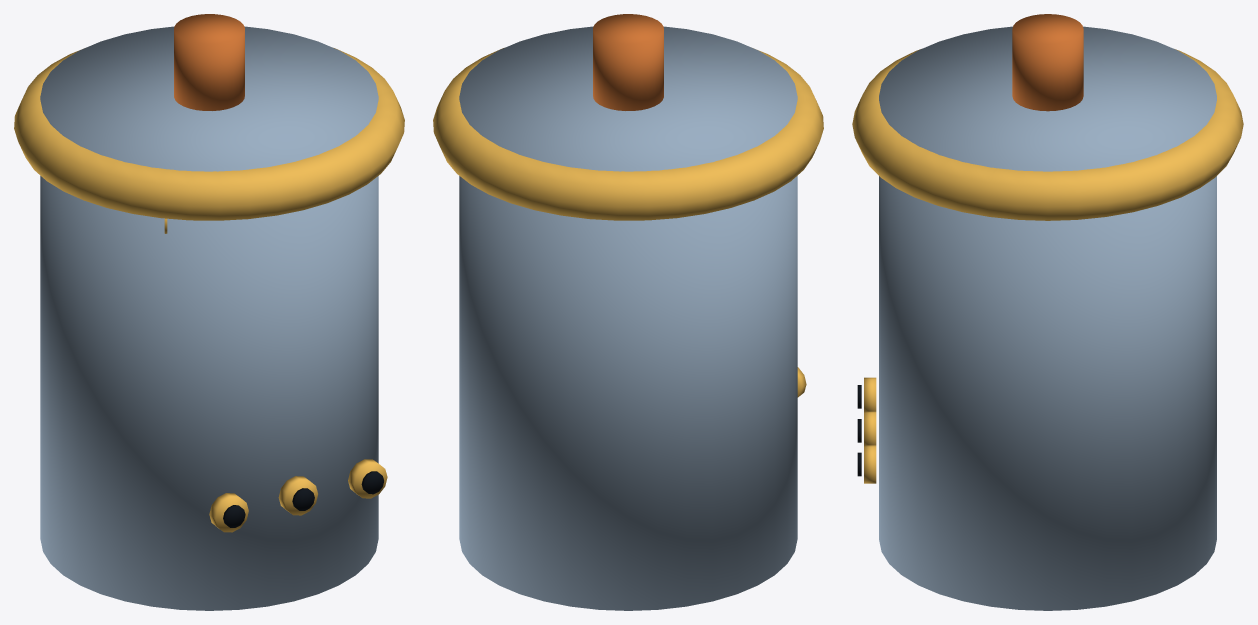
Rendered from 65_L93_SampleGasCaptureTrap.fbx.
3 renders of one model, left to right at view 1: azimuth 30°, elevation 25°; view 2: azimuth 150°, elevation 25°; view 3: azimuth 270°, elevation 25°, orthographic.
Visible parts, largest first — view 1: L92_SampleGasCaptureTrap_Part_0000, L92_SampleGasCaptureTrap_Part_0001, L92_SampleGasCaptureTrap_Part_0002, L92_SampleGasCaptureTrap_Part_0006, L92_SampleGasCaptureTrap_Part_0008, L92_SampleGasCaptureTrap_Part_0004; view 2: L92_SampleGasCaptureTrap_Part_0000, L92_SampleGasCaptureTrap_Part_0001, L92_SampleGasCaptureTrap_Part_0002; view 3: L92_SampleGasCaptureTrap_Part_0000, L92_SampleGasCaptureTrap_Part_0001, L92_SampleGasCaptureTrap_Part_0002.
Part boxes in pixels (box(x1,y1,x2,y2)): L92_SampleGasCaptureTrap_Part_0000: box(40, 26, 378, 610); L92_SampleGasCaptureTrap_Part_0001: box(14, 48, 404, 220); L92_SampleGasCaptureTrap_Part_0002: box(174, 14, 244, 110); L92_SampleGasCaptureTrap_Part_0006: box(278, 476, 317, 515); L92_SampleGasCaptureTrap_Part_0008: box(348, 459, 387, 498); L92_SampleGasCaptureTrap_Part_0004: box(209, 493, 248, 532); L92_SampleGasCaptureTrap_Part_0000: box(459, 26, 797, 610); L92_SampleGasCaptureTrap_Part_0001: box(433, 48, 823, 220); L92_SampleGasCaptureTrap_Part_0002: box(593, 14, 663, 110); L92_SampleGasCaptureTrap_Part_0000: box(879, 26, 1216, 610); L92_SampleGasCaptureTrap_Part_0001: box(852, 49, 1243, 220); L92_SampleGasCaptureTrap_Part_0002: box(1012, 14, 1083, 111).
Size of the model in its own units: 132 by 190 by 132.
